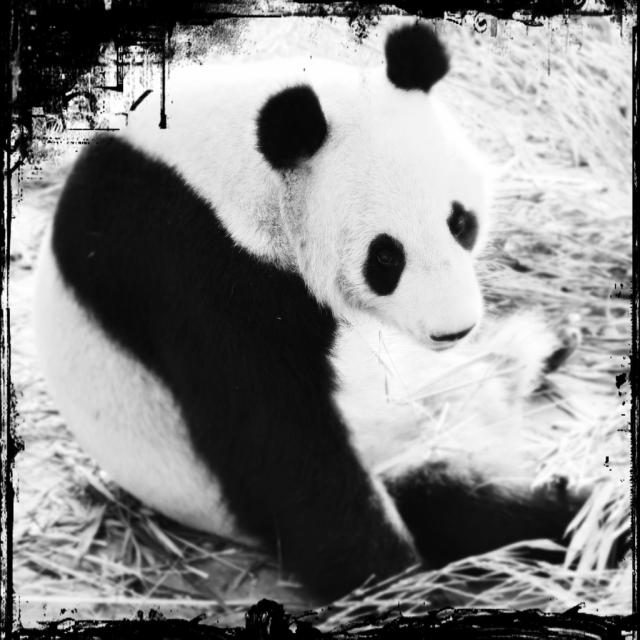panda: (28, 17, 633, 600)
